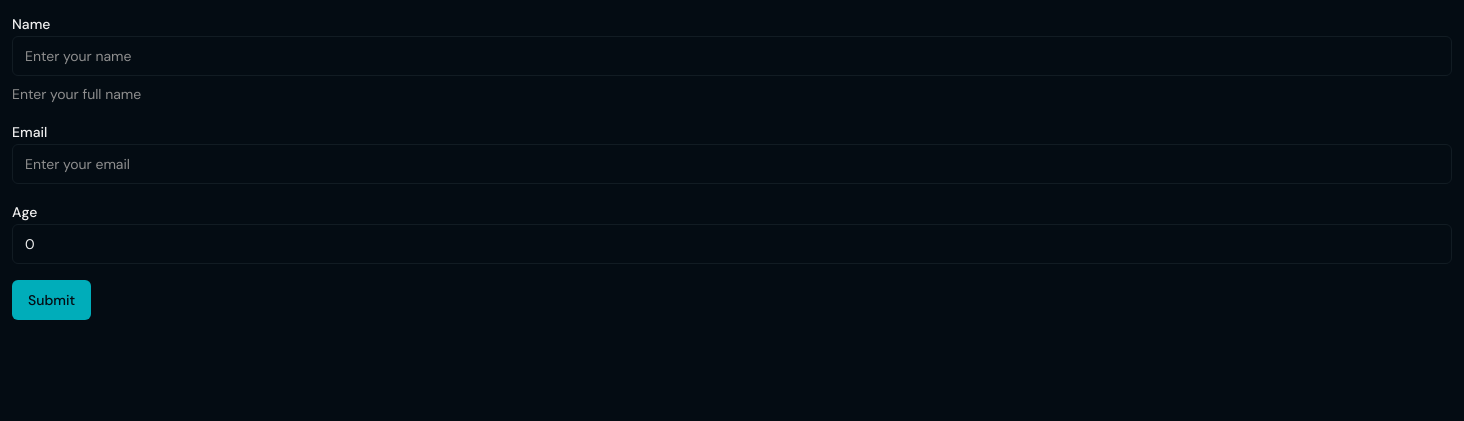
Test case: Form Component › shows validation errors for invalid input
Note: Try to submit with empty fields
Click the button "Submit" at (52, 300), box [12, 280, 91, 320]
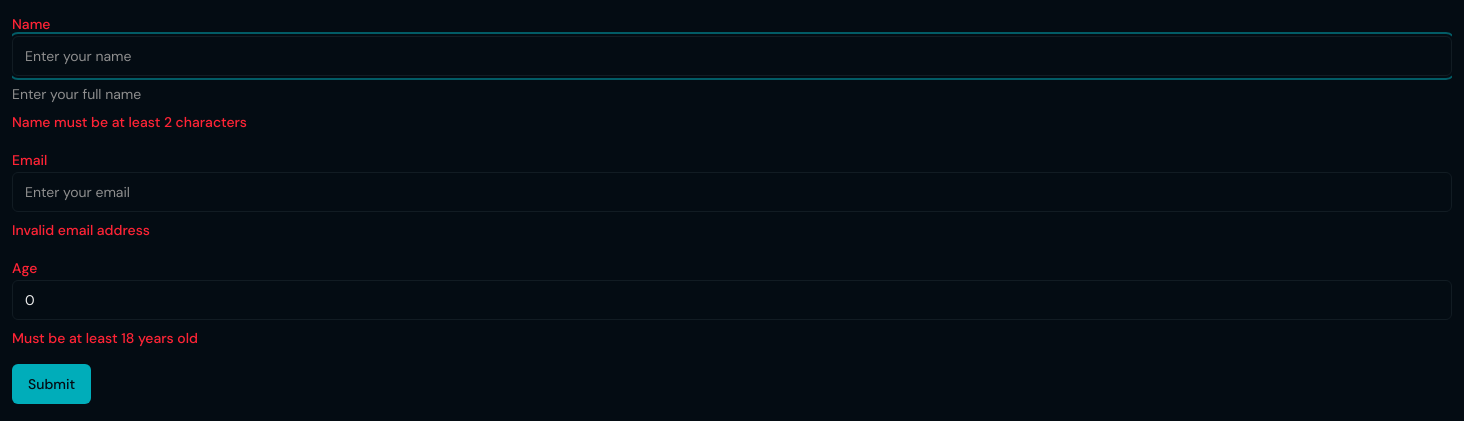
Expected: the text "Name must be at least 2 characters" is shown, [12, 113, 247, 131]
Expected: the text "Invalid email address" is shown, [12, 221, 150, 239]
Expected: the text "Must be at least 18 years old" is shown, [12, 329, 198, 347]
